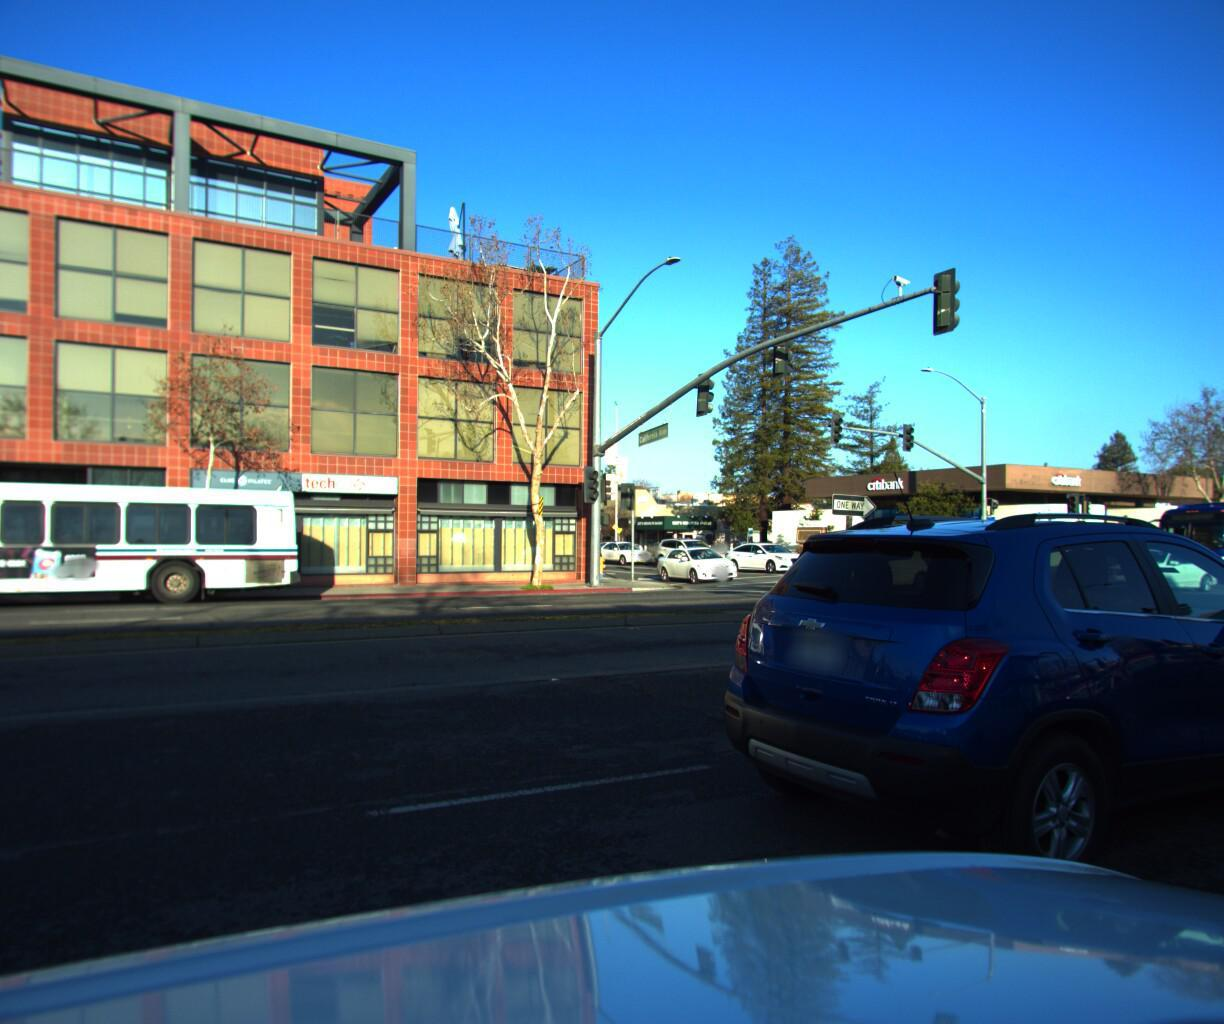bus: (0, 478, 301, 614), (1137, 493, 1224, 580)
car: (670, 517, 1224, 981), (1086, 539, 1224, 591), (646, 543, 749, 585), (716, 535, 814, 570), (648, 533, 729, 566), (591, 536, 659, 564)
